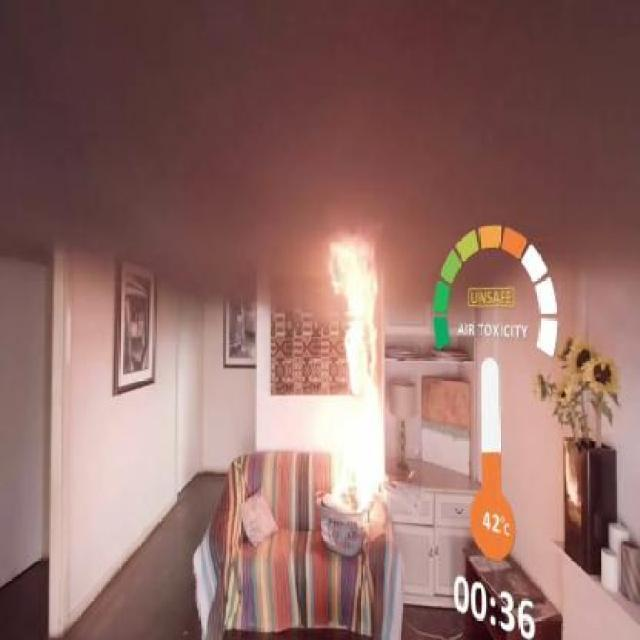fire: (306, 222, 391, 552)
smoke: (58, 30, 590, 201)
